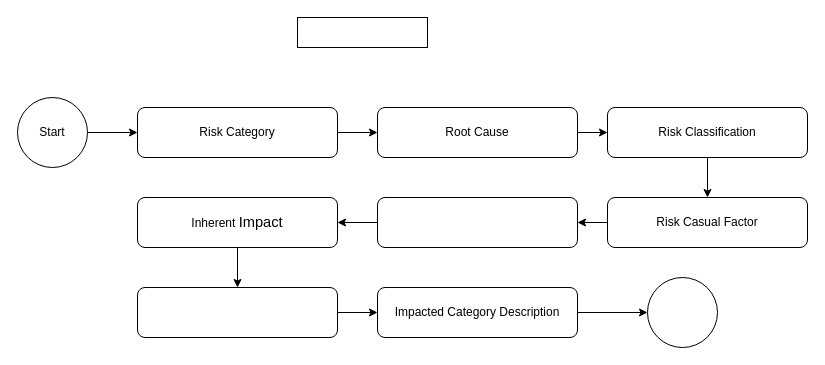
Image size: 825x365. Some labels were removed from this diagram. Here are the shapes that lost their labels. From the top down, the centre of each, then its label:
At (x=362, y=32): "Step 2".
At (x=477, y=222): "Inherent Likelihood".
At (x=237, y=312): "Impacted Category(Optiinal)".
At (x=682, y=312): "End".
